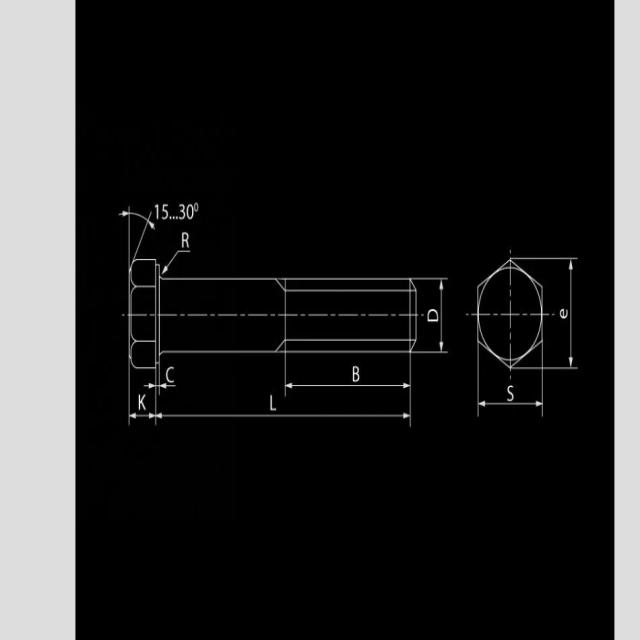marking_line: (155, 388, 412, 427), (284, 354, 412, 396), (543, 258, 578, 371), (159, 366, 287, 395), (477, 370, 543, 417), (417, 277, 450, 354), (119, 208, 155, 258), (129, 369, 158, 425), (161, 248, 191, 276)
numeric: (181, 232, 191, 249), (427, 308, 438, 322), (166, 366, 175, 383), (186, 203, 194, 220), (507, 385, 515, 401), (139, 393, 146, 411), (179, 202, 185, 220), (270, 395, 277, 410), (162, 203, 168, 220), (559, 309, 569, 319), (353, 366, 359, 382), (155, 204, 160, 220)
special_symbol: (194, 202, 199, 212), (169, 215, 172, 220), (176, 216, 179, 220), (173, 215, 175, 220)
